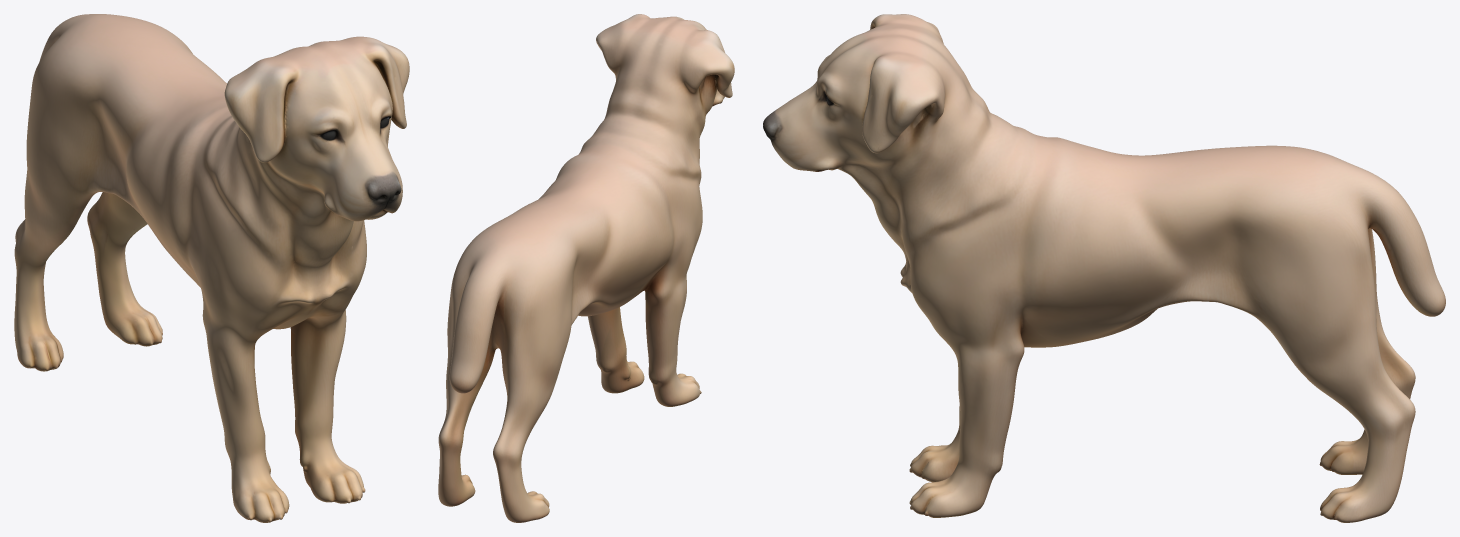
Rendered from dog3d.glb.
3 renders of one model, left to right at view 1: azimuth 30°, elevation 25°; view 2: azimuth 150°, elevation 25°; view 3: azimuth 270°, elevation 25°, orthographic. The views are drawn at different scales.
Bounding box in the file's own units: 0.5536 × 1.41 × 1.9.
1 material, 1 textured.
